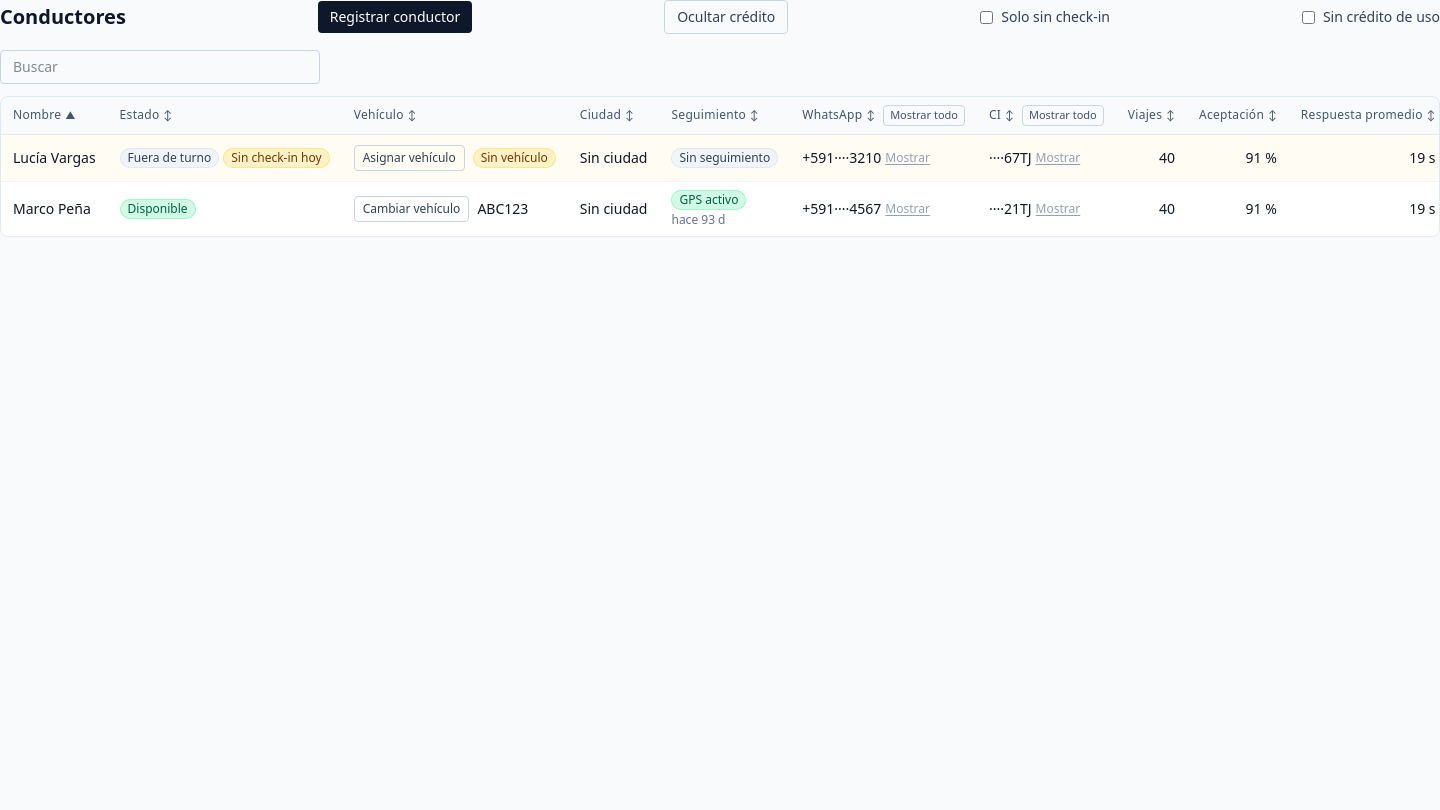
Test case: registro › no envía el alta si faltan campos obligatorios
This screenshot has width=1440, height=810.
Click the button "Registrar conductor" at (395, 17), box [318, 1, 472, 33]
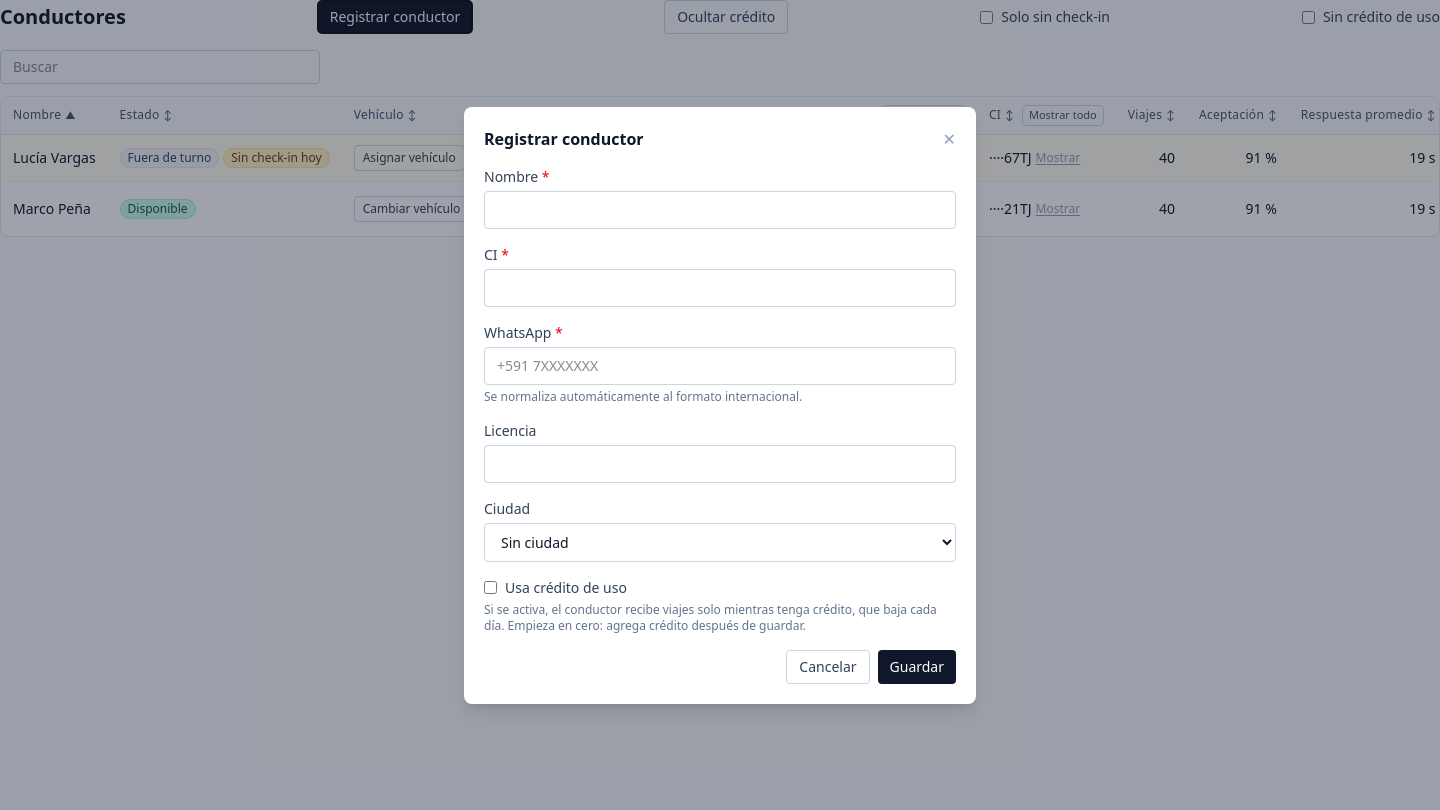
Type "Ana Choque" into the field labelled "Nombre *" at (720, 210), box [484, 190, 956, 228]
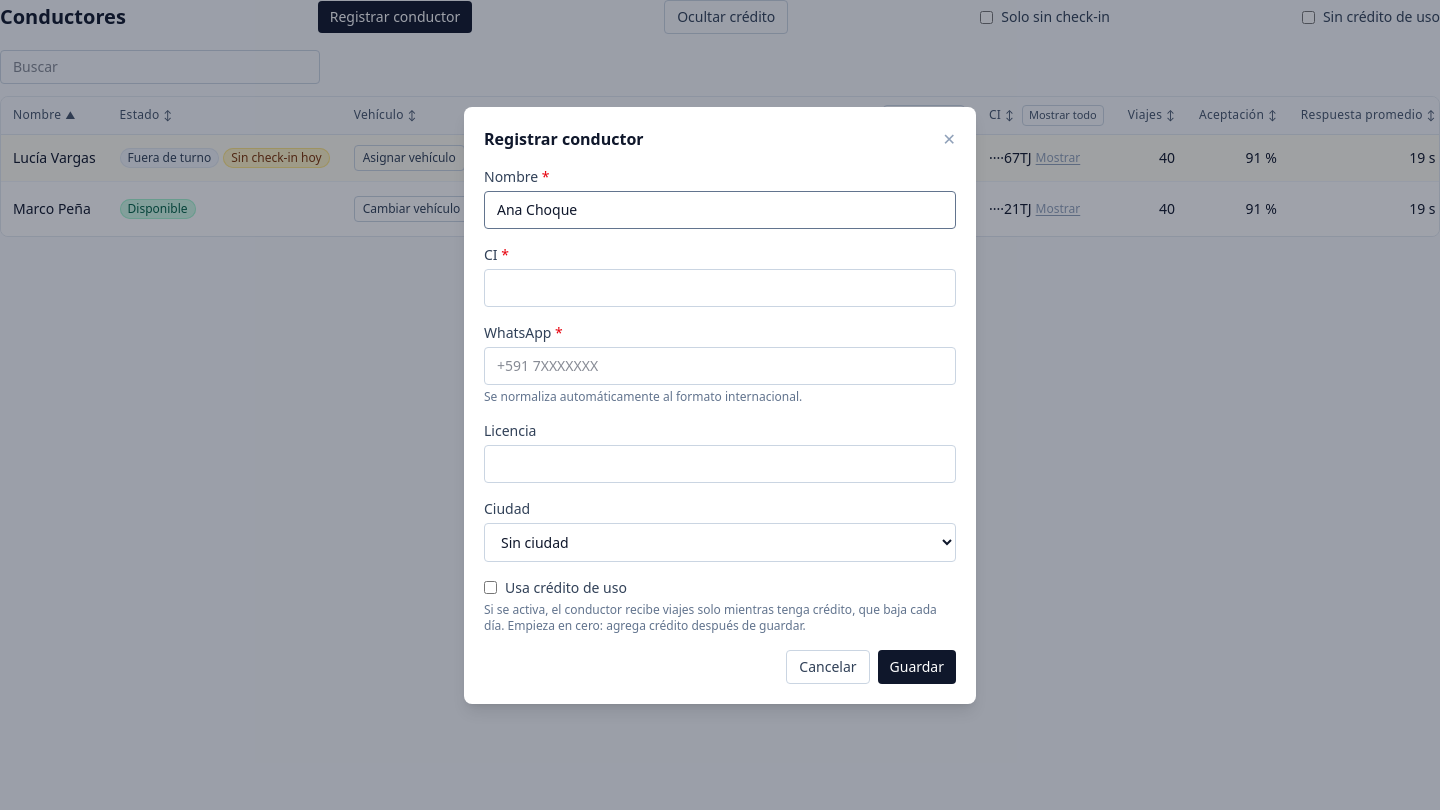
Click the button "Guardar" at (917, 666), box [878, 650, 956, 684]
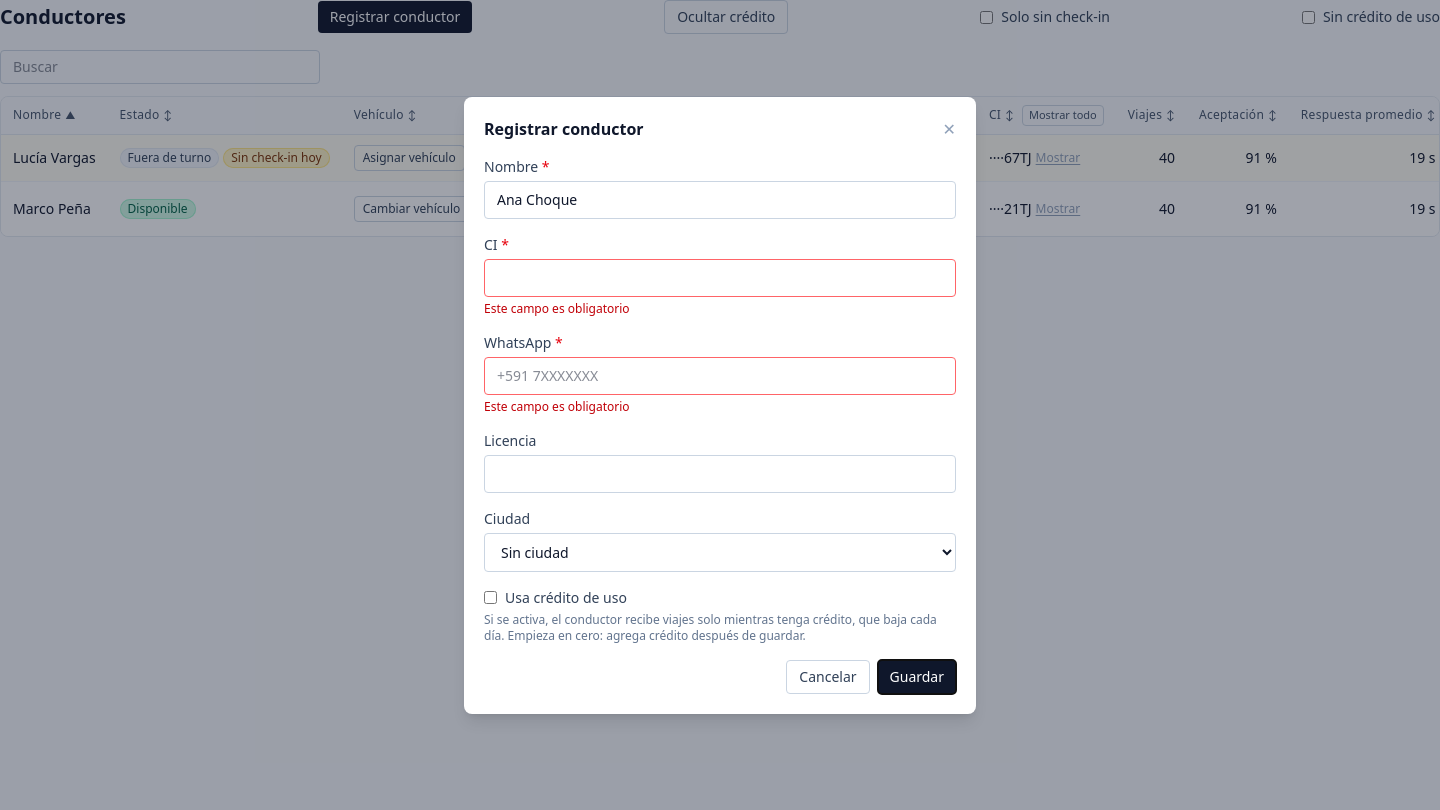
Expected: the 1st text "Este campo es obligatorio" is shown, [484, 300, 630, 316]
